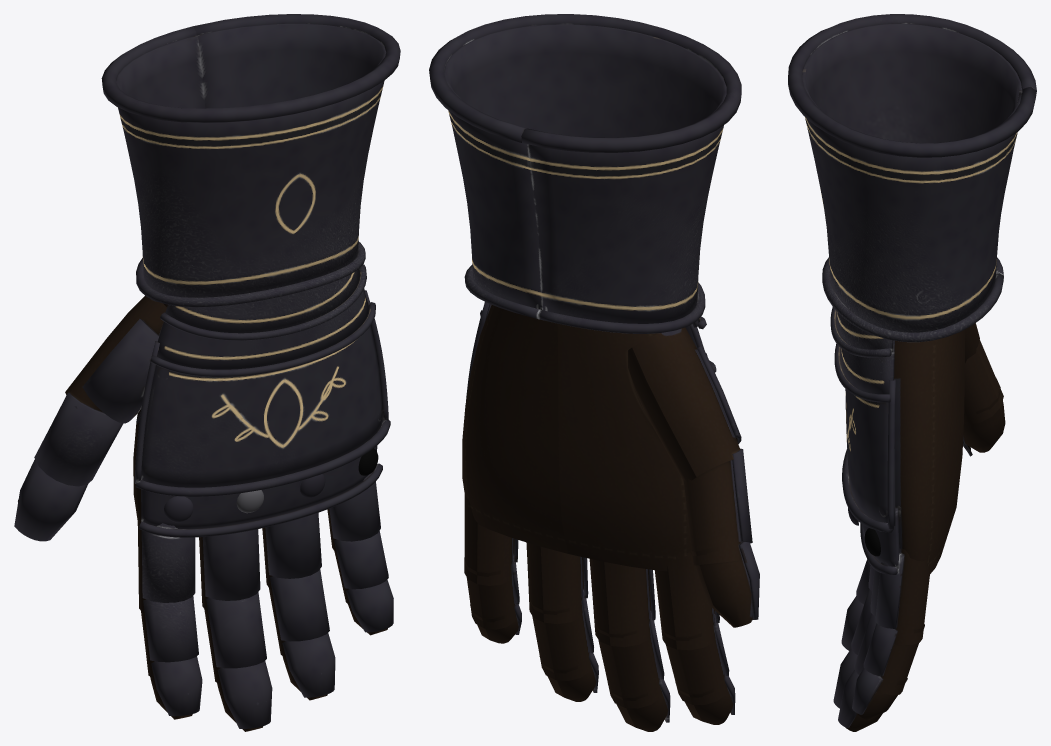
File: SM_ObsidianSovereign_Gauntlets_L.fbx
3 renders of one model, left to right at view 1: azimuth 30°, elevation 25°; view 2: azimuth 150°, elevation 25°; view 3: azimuth 270°, elevation 25°, orthographic. The views are drawn at different scales.
Visible parts, largest first — view 1: SM_ObsidianSovereign_Gauntlets_L; view 2: SM_ObsidianSovereign_Gauntlets_L; view 3: SM_ObsidianSovereign_Gauntlets_L.
Boxes of the visible parts, box(x1,y1,x2,y2) form: SM_ObsidianSovereign_Gauntlets_L: box(14, 14, 400, 731); SM_ObsidianSovereign_Gauntlets_L: box(429, 14, 759, 731); SM_ObsidianSovereign_Gauntlets_L: box(788, 14, 1036, 731).
Bounding box in the file's own units: 14.46 × 9.18 × 26.67.
